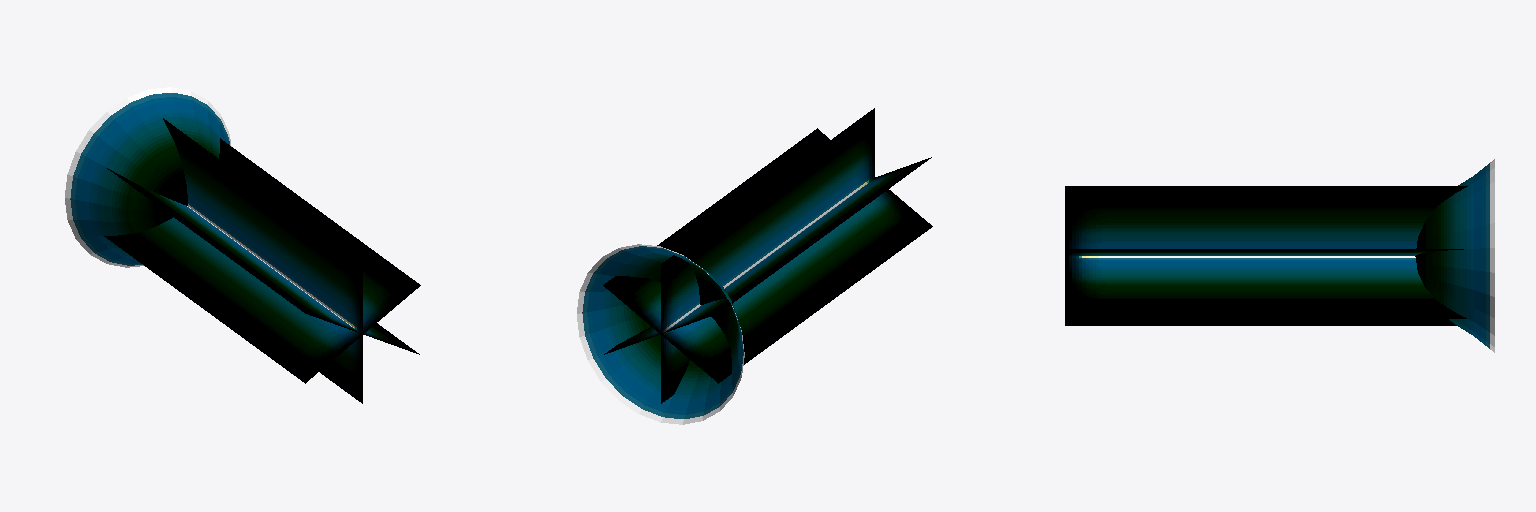
3 views of the same model, side by side, from view 1: azimuth 30°, elevation 25°; view 2: azimuth 150°, elevation 25°; view 3: azimuth 270°, elevation 25° (orthographic).
Visible parts, largest first — view 1: polygon0, polygon1; view 2: polygon0, polygon1; view 3: polygon0, polygon1.
Boxes of the visible parts, box(x1,y1,x2,y2) form: polygon0: box(104, 118, 420, 403); polygon1: box(65, 87, 231, 267); polygon0: box(603, 108, 932, 403); polygon1: box(577, 244, 744, 424); polygon0: box(1065, 186, 1467, 325); polygon1: box(1415, 159, 1494, 352).
Bounding box in the file's own units: 58.89 × 58.89 × 130.
Materials: 2 (1 with a texture image).